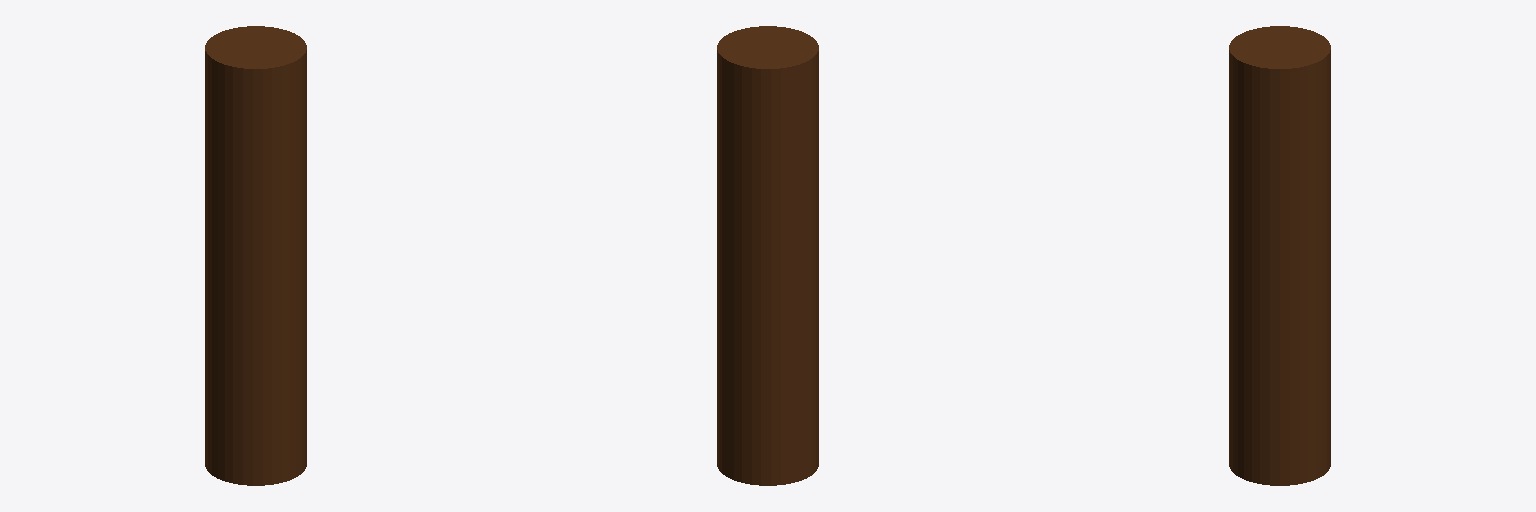
Rendered from torch.obj.
The picture shows the model from 3 angles: view 1: azimuth 30°, elevation 25°; view 2: azimuth 150°, elevation 25°; view 3: azimuth 270°, elevation 25°; orthographic projection.
Visible parts, largest first — view 1: Cylinder; view 2: Cylinder; view 3: Cylinder.
Boxes of the visible parts, box(x1,y1,x2,y2) form: Cylinder: box(205, 26, 306, 485); Cylinder: box(717, 26, 818, 485); Cylinder: box(1229, 26, 1330, 485).
Size of the model in its own units: 0.6183 by 2.79 by 0.6183.